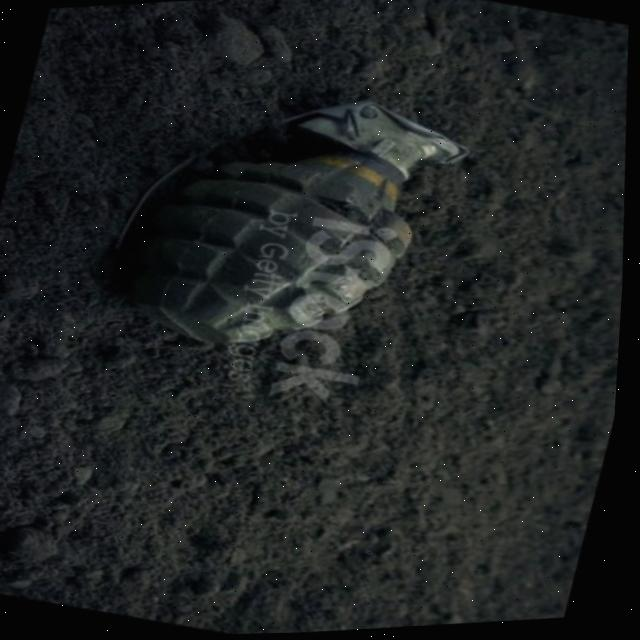grenade: (85, 45, 491, 395)
